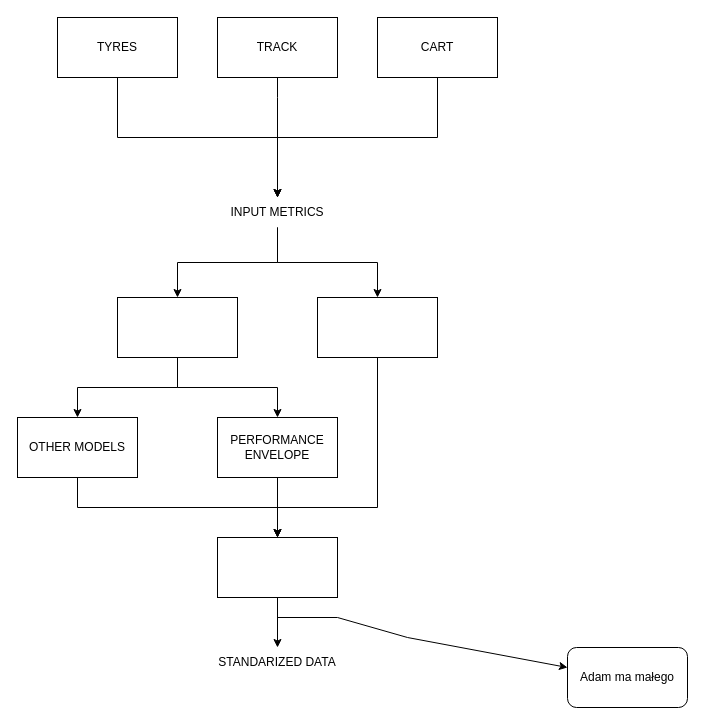
Image size: 705x725. Some labels were removed from this diagram. Here are the shapes that lost their labels. From the top down, the centre of each, then its label:
the point at 177,327: CAR MODEL OF SOME SORT
the point at 377,327: TRACK MODEL OF SOME SORT
the point at 277,567: SIMULATION
